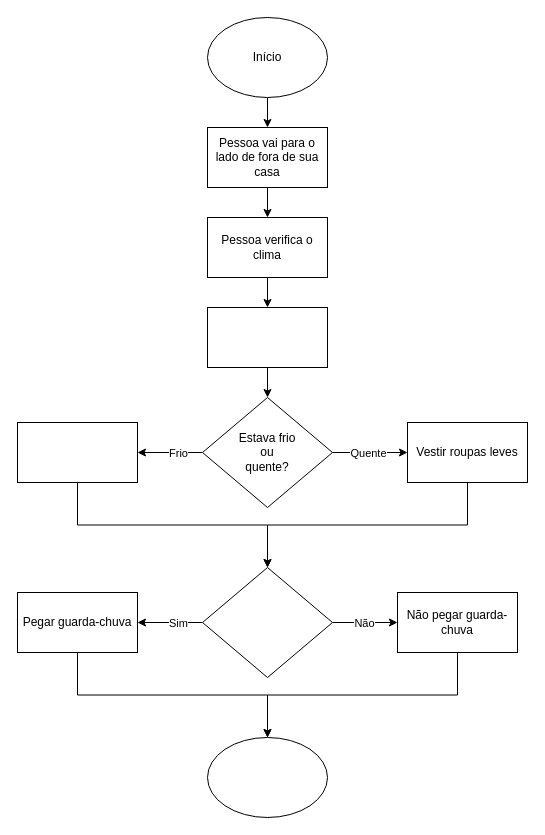
This 545x835 diagram has some shape labels left out. The centre of each missing label's shape, as x and y in pixels:
"Estava chovendo?" belongs at pixel 267 622.
"Fim" belongs at pixel 267 777.
"Pessoa volta para dentro de sua casa" belongs at pixel 267 337.
"Vestir um casaco" belongs at pixel 77 452.
